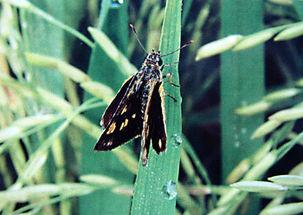pest: (91, 50, 168, 160)
